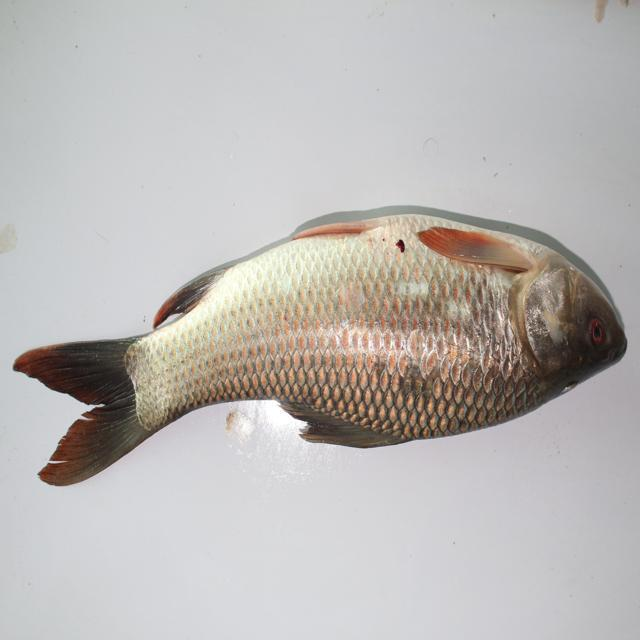Rohu: (12, 189, 640, 523)
